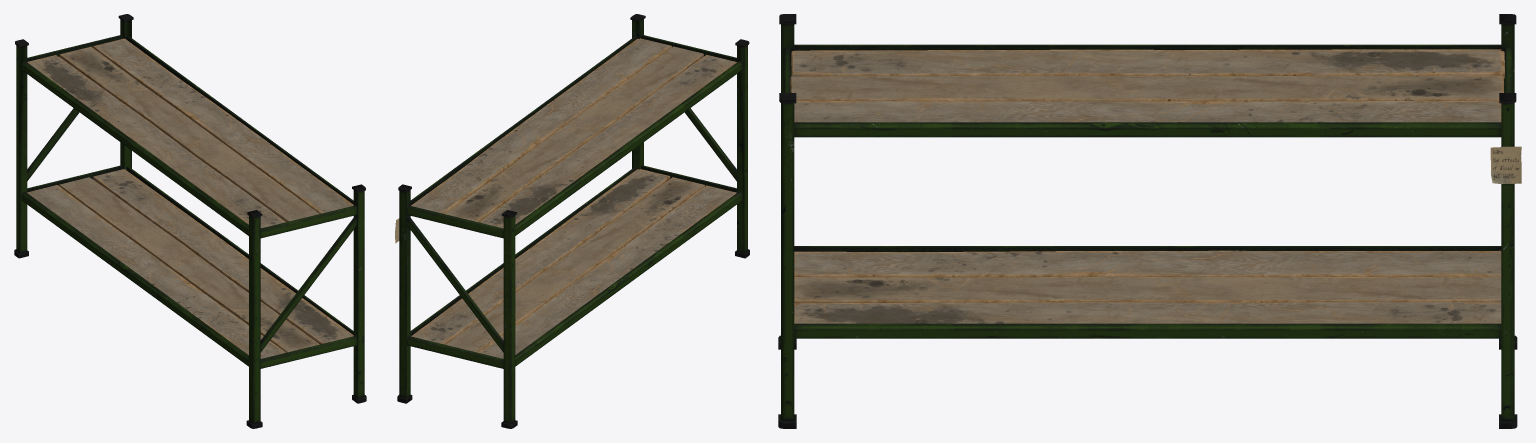
Rendered from Prop_Shelf.fbx.
3 views of the same model, side by side, from view 1: azimuth 30°, elevation 25°; view 2: azimuth 150°, elevation 25°; view 3: azimuth 270°, elevation 25° (orthographic). The views are drawn at different scales.
Parts seen in each view (by area): view 1: Prop_Shelf; view 2: Prop_Shelf; view 3: Prop_Shelf.
Part boxes in pixels (<box>): Prop_Shelf: <box>14,14,366,428</box>; Prop_Shelf: <box>395,14,749,428</box>; Prop_Shelf: <box>778,14,1521,428</box>.
Size of the model in its own units: 35.79 by 62.12 by 127.
